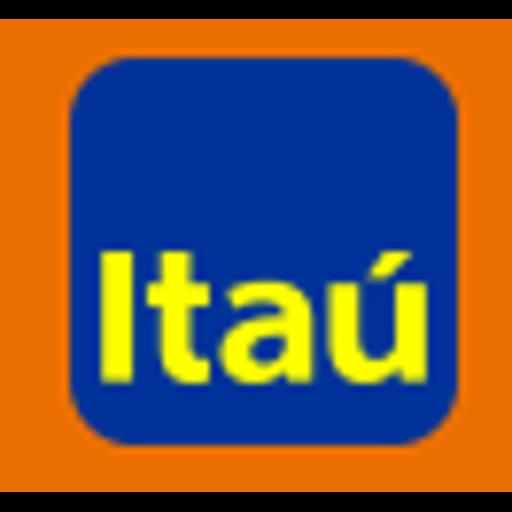Itau Unibanco S-A: (0, 19, 512, 492)
